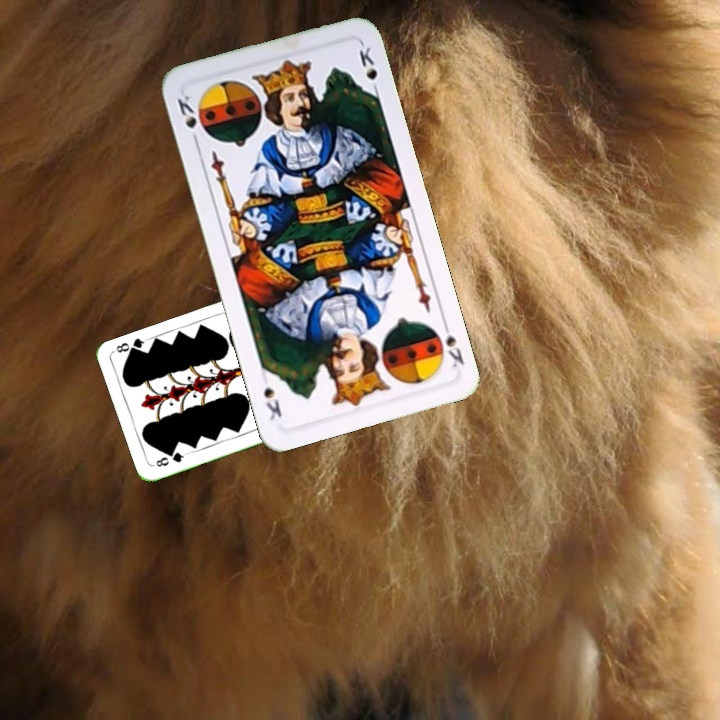G8: (152, 448, 189, 469)
SK: (173, 90, 201, 148), (438, 316, 467, 370)
